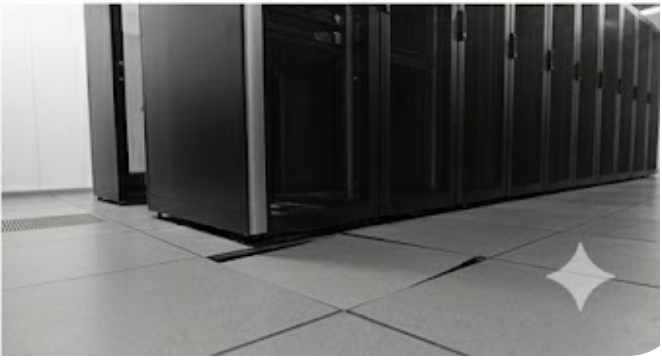floor_defect: (192, 231, 491, 313)
